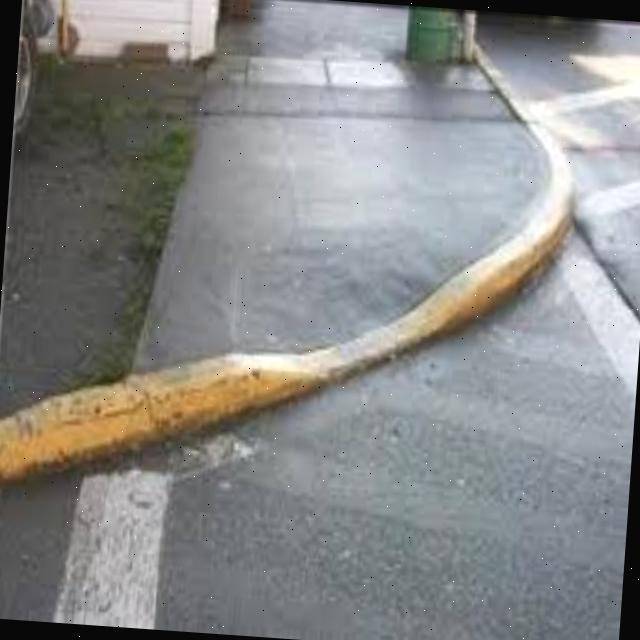curb: (0, 43, 573, 481)
